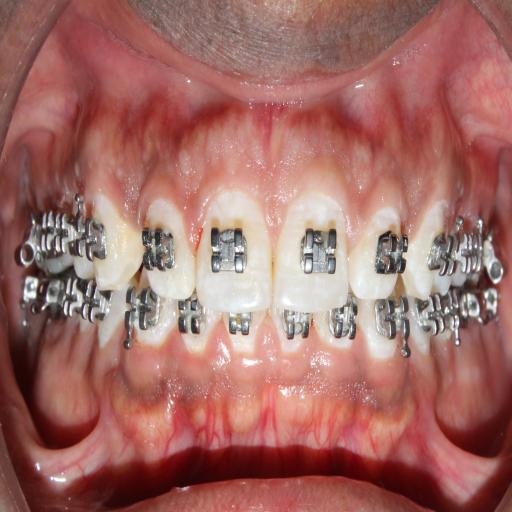correct_brace: (296, 216, 339, 284), (208, 218, 249, 278), (140, 221, 176, 275), (374, 233, 410, 284), (428, 228, 460, 278), (76, 214, 106, 263)
incorrect_brace: (142, 192, 195, 302), (347, 194, 402, 296)
